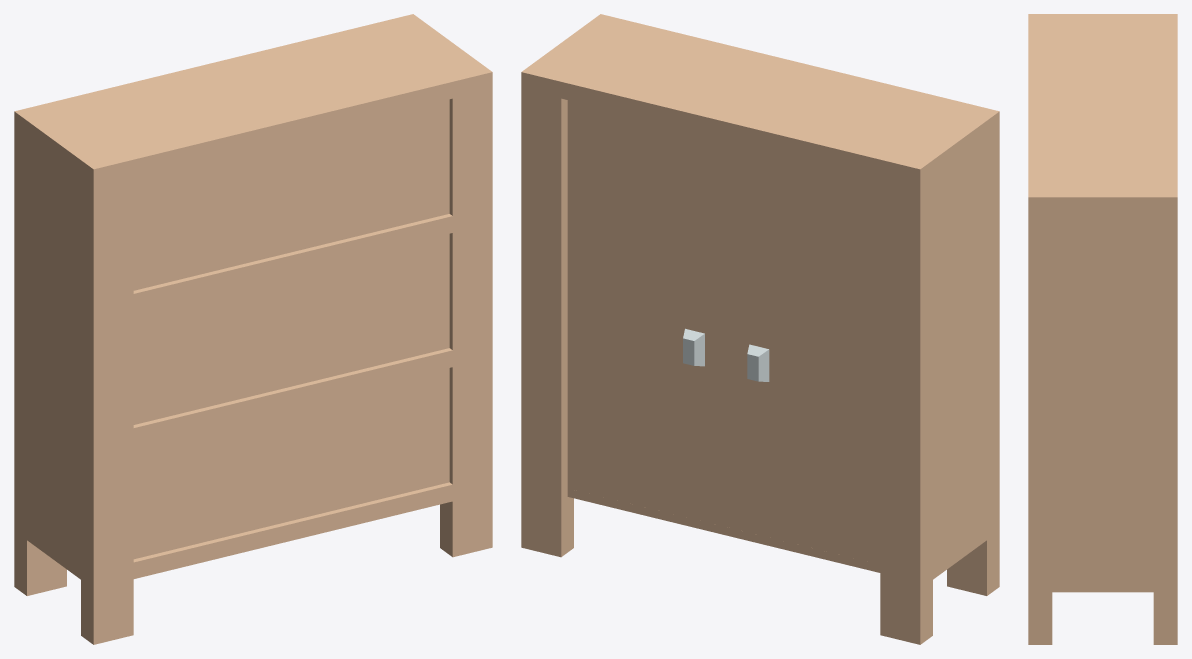
The model's file is wardrobe-tor.glb.
3 views of the same model, side by side, from view 1: azimuth 30°, elevation 25°; view 2: azimuth 150°, elevation 25°; view 3: azimuth 270°, elevation 25° (orthographic). The views are drawn at different scales.
Parts seen in each view (by area): view 1: bookcaseClosedDoors(Clone); view 2: bookcaseClosedDoors(Clone), doorLeft, doorRight; view 3: bookcaseClosedDoors(Clone).
Part boxes in pixels (left/top/right/bottom): bookcaseClosedDoors(Clone): left=14, top=14, right=492, bottom=644; bookcaseClosedDoors(Clone): left=521, top=14, right=999, bottom=644; doorLeft: left=567, top=100, right=727, bottom=527; doorRight: left=727, top=139, right=880, bottom=564; bookcaseClosedDoors(Clone): left=1028, top=14, right=1177, bottom=644.
Bounding box in the file's own units: 1.8 × 2.05 × 0.62.
